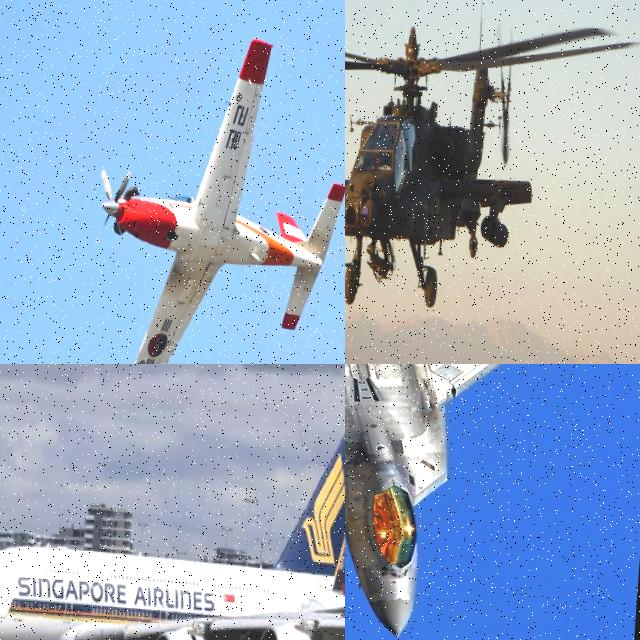A380: (0, 379, 345, 640)
Apache: (345, 0, 640, 327)
F22: (345, 364, 619, 640)
KT-1: (80, 26, 345, 364)
